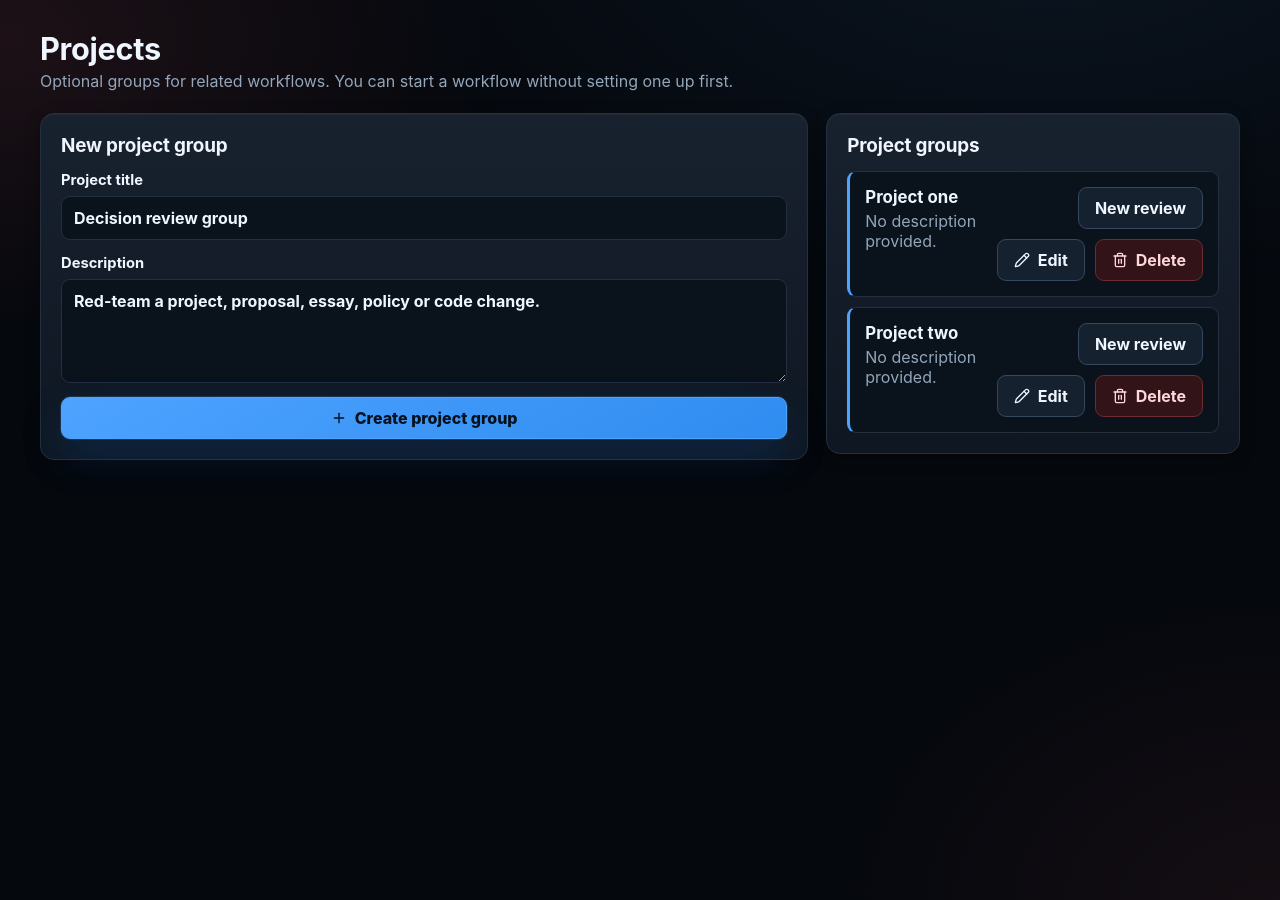
Scenario: unauthenticated and alternate branch states › keeps unrelated projects when one project is edited
The width and height of the screenshot is (1280, 900).
Click the button "Edit" below "Project one": {"x": 1041, "y": 260} [997, 239, 1085, 281]
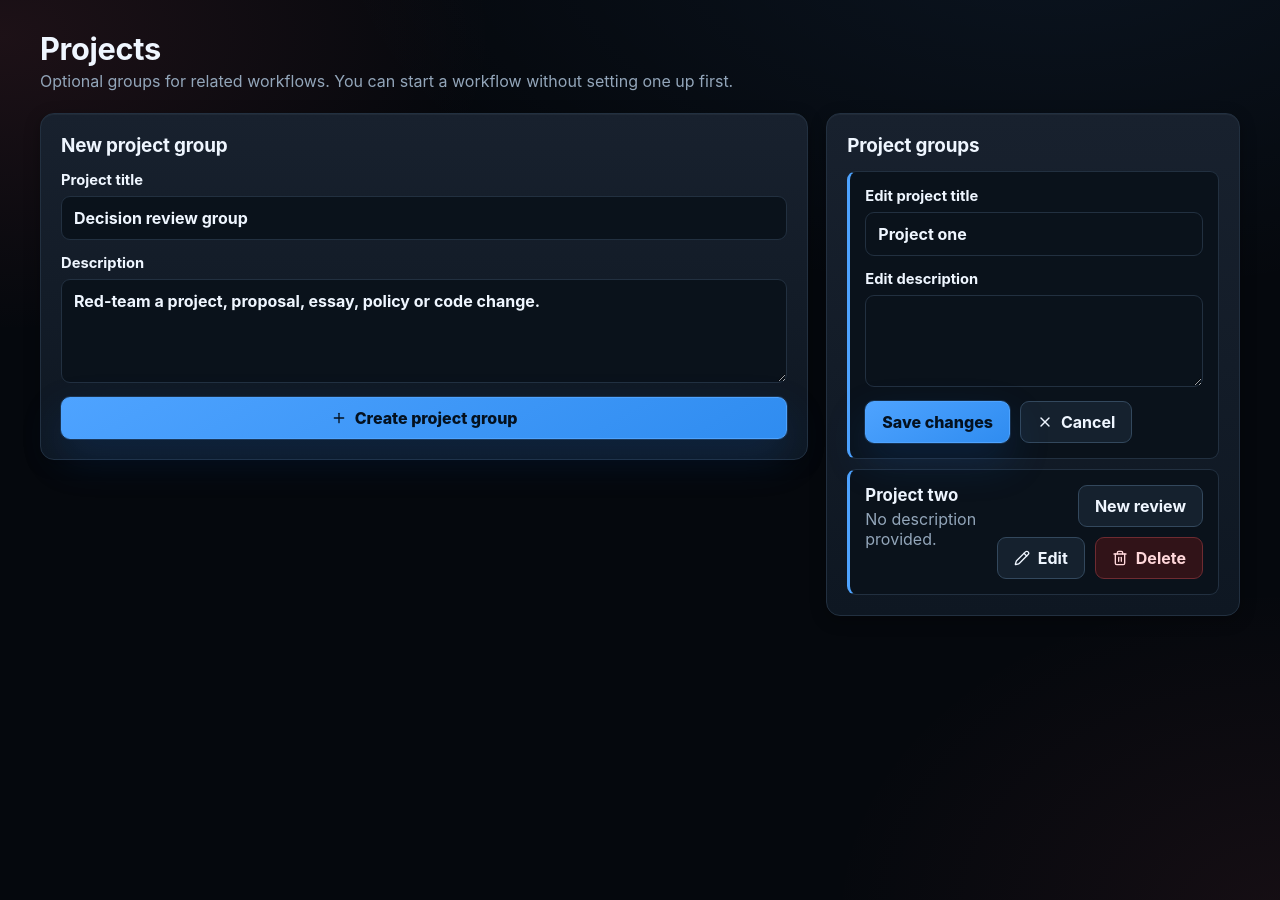
Replace the text in the field labelled "Edit project title" with "Renamed": {"x": 1034, "y": 234} [865, 212, 1203, 256]
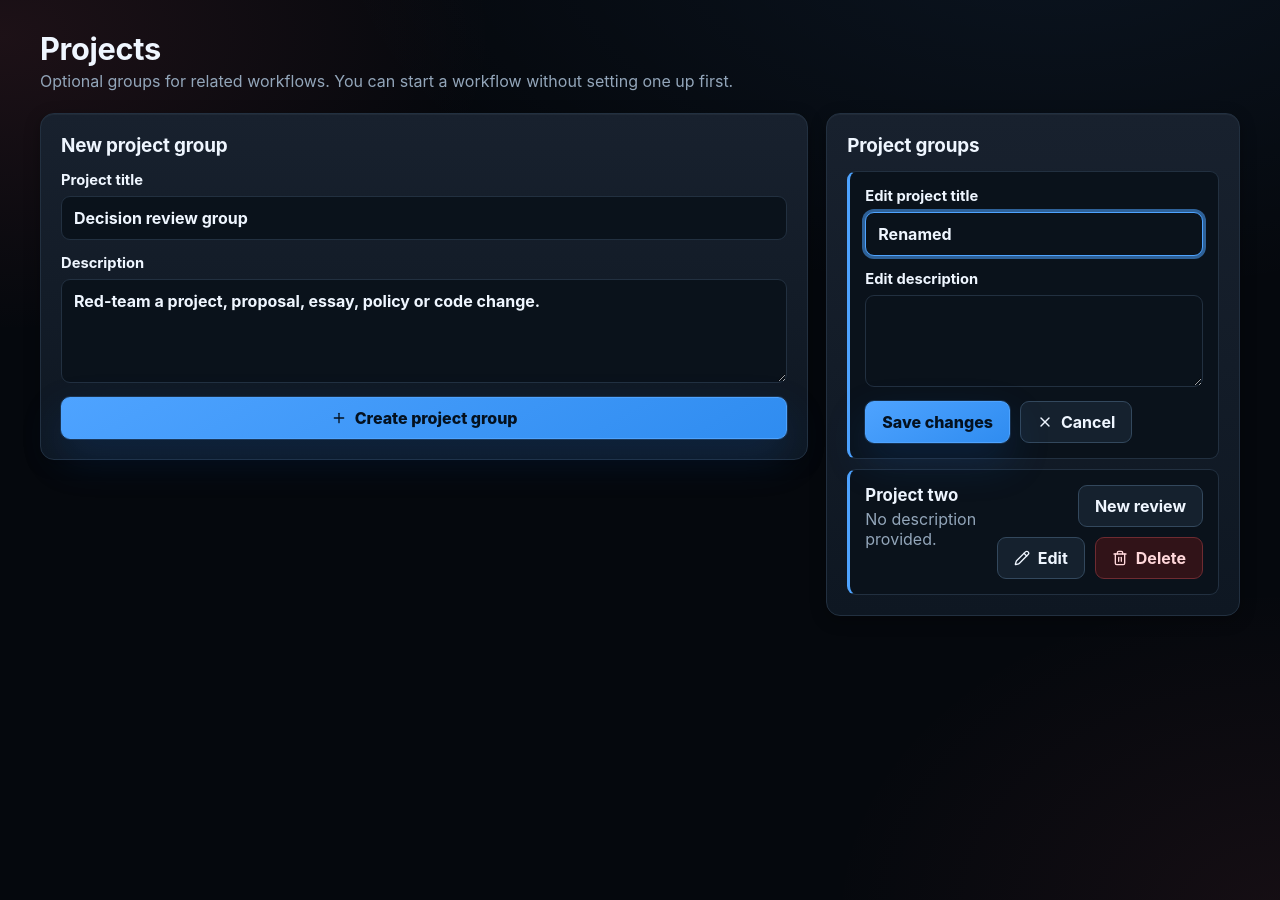
Click the button "Save changes": {"x": 938, "y": 422} [865, 401, 1010, 443]
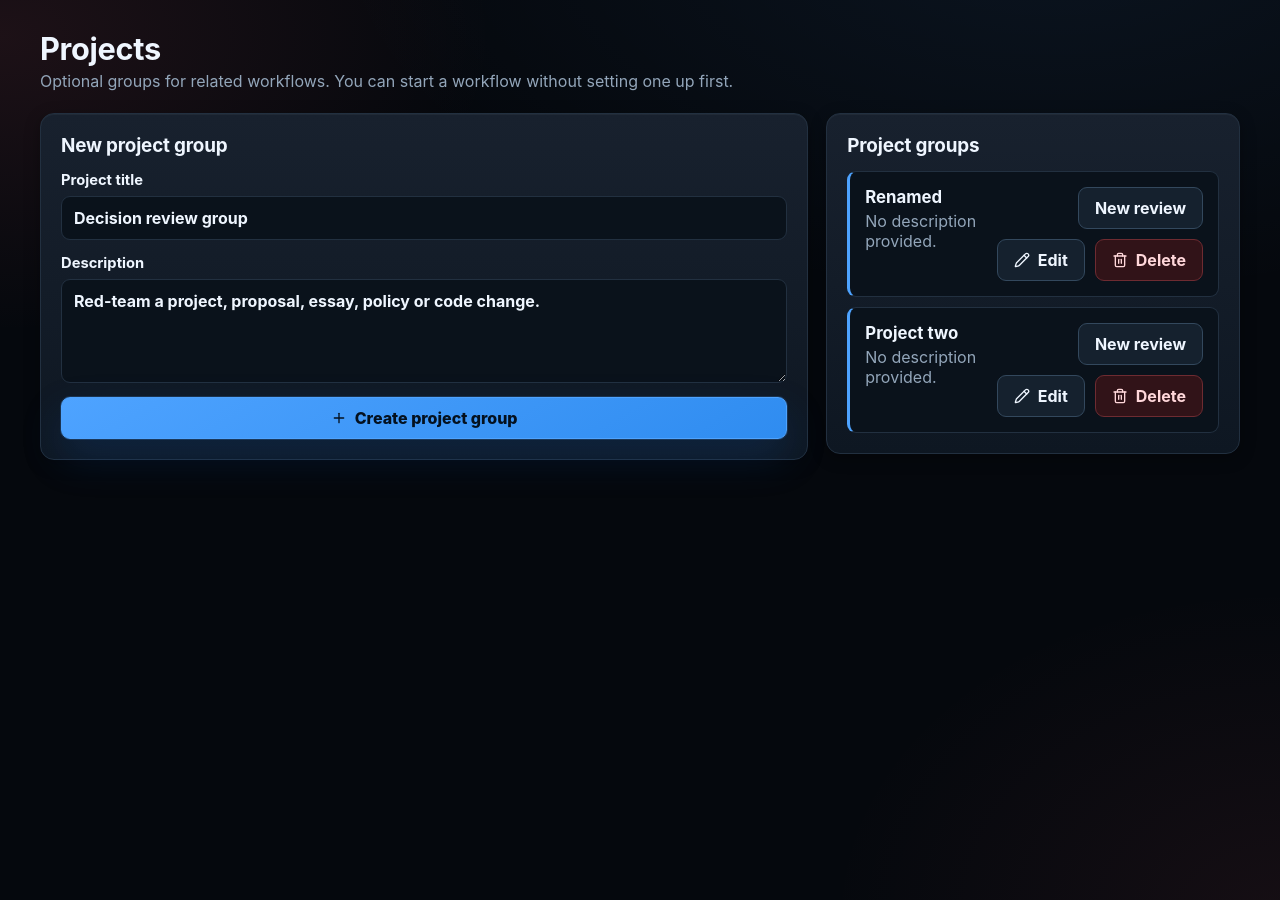
Expected: the text "Project two" is shown, [865, 323, 958, 343]
Expected: the text "Renamed" is shown, [865, 187, 942, 207]
